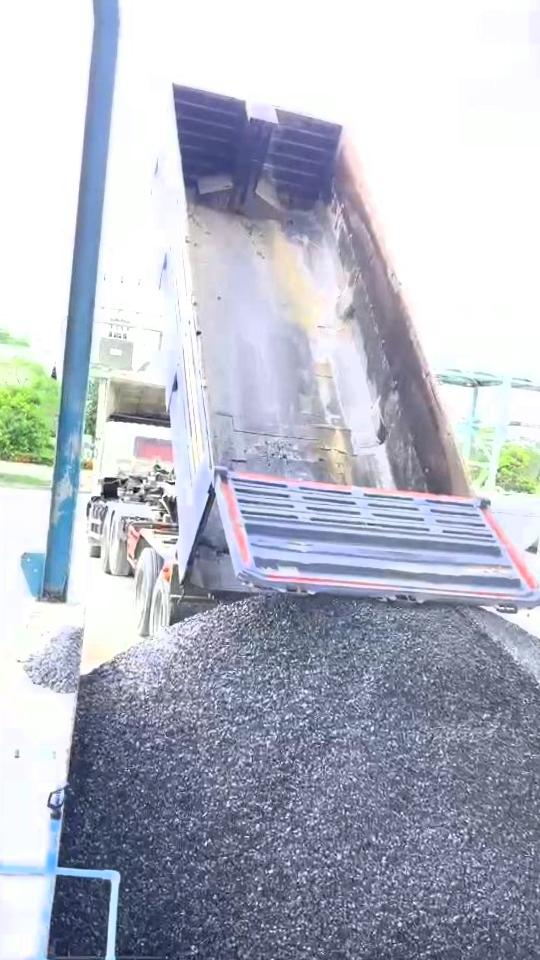gravel: (62, 597, 540, 960), (23, 628, 82, 692), (54, 883, 104, 954)
